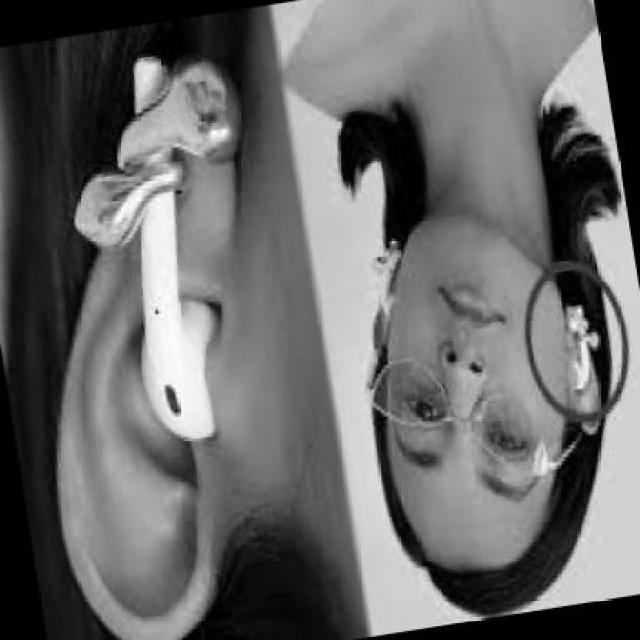earphone: (121, 43, 238, 436), (557, 279, 602, 427)
